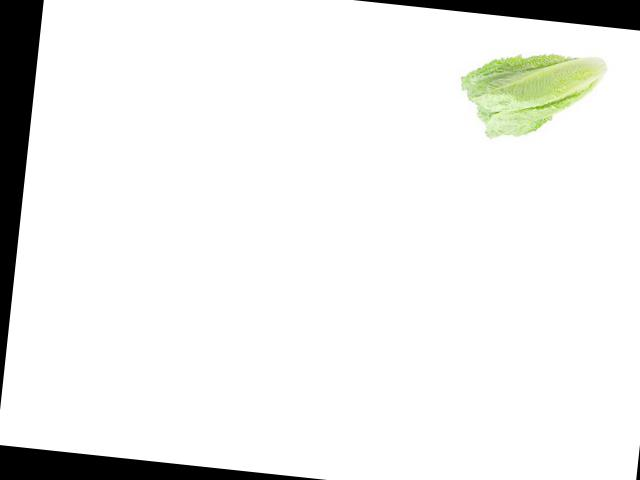lettuce: (431, 11, 598, 156)
